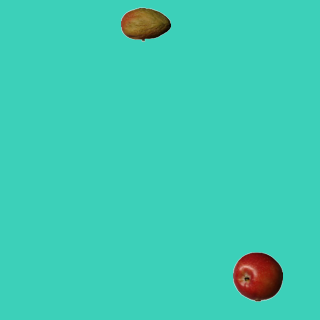Apple Braeburn: (232, 251, 282, 301)
Papaya: (120, 0, 170, 49)
